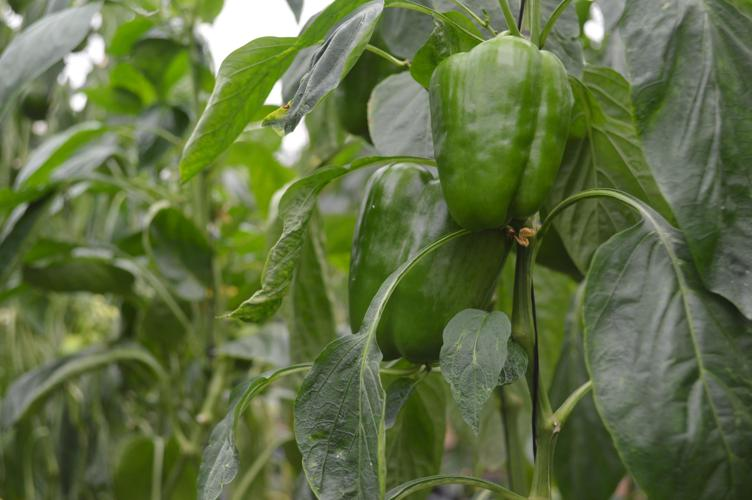BellPepper: (345, 163, 507, 354), (426, 37, 572, 227)
